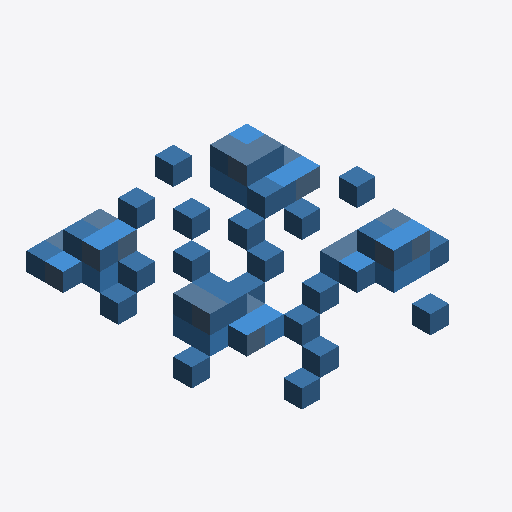
A Minecraft block model of 28 cuboids, rendered isometrically (azimuth 45°, elevation 35.3°) with the resource pack's own textures.
Parts seen in each view (by area): element 28, element 23, element 22, element 25, element 26, element 27, element 24, element 21, element 10, element 4, element 11, element 18 (+15 smaller).
Boxes of the visible parts, x1=… form: element 28: x1=173, y1=272, x2=246, y2=355; element 23: x1=357, y1=208, x2=429, y2=292; element 22: x1=210, y1=124, x2=283, y2=207; element 25: x1=63, y1=209, x2=136, y2=292; element 26: x1=26, y1=230, x2=81, y2=292; element 27: x1=228, y1=293, x2=283, y2=356; element 24: x1=320, y1=230, x2=374, y2=292; element 21: x1=265, y1=145, x2=319, y2=207; element 10: x1=155, y1=145, x2=191, y2=186; element 4: x1=173, y1=198, x2=209, y2=239; element 11: x1=173, y1=346, x2=209, y2=387; element 18: x1=302, y1=272, x2=338, y2=313.
Bounding box in the file's own units: 14 × 2 × 15.